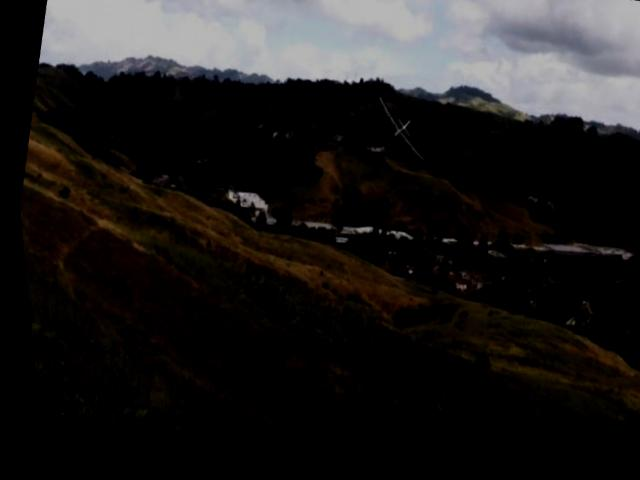iha: (361, 100, 431, 177)
